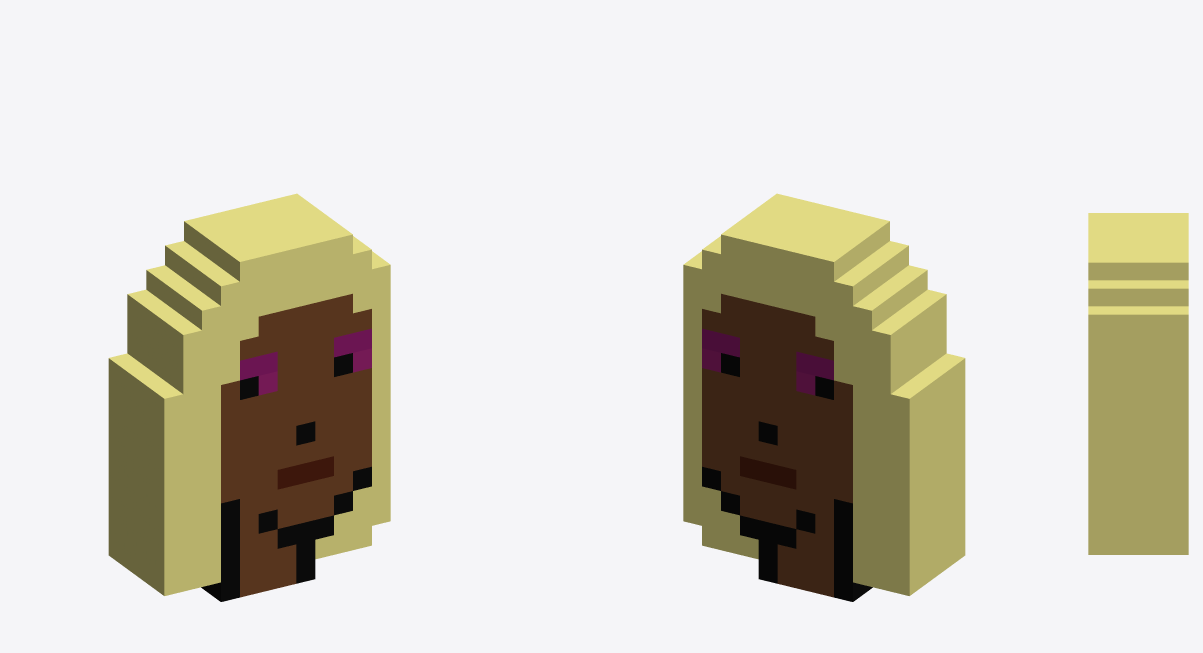
Rendered from ARPunk1906.glb.
3 views of the same model, side by side, from view 1: azimuth 30°, elevation 25°; view 2: azimuth 150°, elevation 25°; view 3: azimuth 270°, elevation 25° (orthographic). The views are drawn at different scales.
Visible parts, largest first — view 1: Mesh_242.012, Mesh_392.012, Mesh_339.012, Mesh_319.012, Mesh_364.012, Mesh_50.012, Mesh_146.012, Mesh_218.012, Mesh_26.012, Mesh_74.012, Mesh_122.012, Mesh_170.012 (+9 smaller); view 2: Mesh_242.012, Mesh_392.012, Mesh_339.012, Mesh_319.012, Mesh_364.012, Mesh_50.012, Mesh_146.012, Mesh_218.012, Mesh_26.012, Mesh_74.012, Mesh_122.012, Mesh_170.012 (+9 smaller); view 3: Mesh_351.012, Mesh_381.012, Mesh_402.012, Mesh_135.012, Mesh_159.012, Mesh_231.012, Mesh_255.012, Mesh_63.012, Mesh_111.012, Mesh_183.012, Mesh_207.012, Mesh_279.012 (+9 smaller).
Part boxes in pixels (left/top/right/bottom): Mesh_242.012: left=108, top=353, right=183, bottom=418; Mesh_392.012: left=184, top=216, right=258, bottom=281; Mesh_339.012: left=146, top=265, right=220, bottom=330; Mesh_319.012: left=127, top=289, right=201, bottom=354; Mesh_364.012: left=165, top=241, right=239, bottom=305; Mesh_50.012: left=108, top=516, right=183, bottom=576; Mesh_146.012: left=108, top=437, right=183, bottom=497; Mesh_218.012: left=108, top=378, right=183, bottom=438; Mesh_26.012: left=108, top=536, right=183, bottom=595; Mesh_74.012: left=108, top=496, right=183, bottom=556; Mesh_122.012: left=108, top=457, right=183, bottom=517; Mesh_170.012: left=108, top=417, right=183, bottom=477; Mesh_242.012: left=890, top=353, right=965, bottom=418; Mesh_392.012: left=815, top=216, right=889, bottom=281; Mesh_339.012: left=853, top=265, right=927, bottom=330; Mesh_319.012: left=872, top=289, right=946, bottom=354; Mesh_364.012: left=834, top=241, right=908, bottom=305; Mesh_50.012: left=890, top=516, right=965, bottom=576; Mesh_146.012: left=890, top=437, right=965, bottom=497; Mesh_218.012: left=890, top=378, right=965, bottom=438; Mesh_26.012: left=890, top=536, right=965, bottom=595; Mesh_74.012: left=890, top=496, right=965, bottom=556; Mesh_122.012: left=890, top=457, right=965, bottom=517; Mesh_170.012: left=890, top=417, right=965, bottom=477; Mesh_351.012: left=1088, top=306, right=1188, bottom=332; Mesh_381.012: left=1088, top=280, right=1188, bottom=306; Mesh_402.012: left=1088, top=254, right=1188, bottom=280; Mesh_135.012: left=1088, top=474, right=1188, bottom=492; Mesh_159.012: left=1088, top=456, right=1188, bottom=474; Mesh_231.012: left=1088, top=403, right=1188, bottom=421; Mesh_255.012: left=1088, top=385, right=1188, bottom=403; Mesh_63.012: left=1088, top=527, right=1188, bottom=545; Mesh_111.012: left=1088, top=492, right=1188, bottom=509; Mesh_183.012: left=1088, top=439, right=1188, bottom=456; Mesh_207.012: left=1088, top=421, right=1188, bottom=438; Mesh_279.012: left=1088, top=368, right=1188, bottom=385.
Bounding box in the file's own units: 24 × 24 × 5.13.
Materials: 1 (1 with a texture image).
